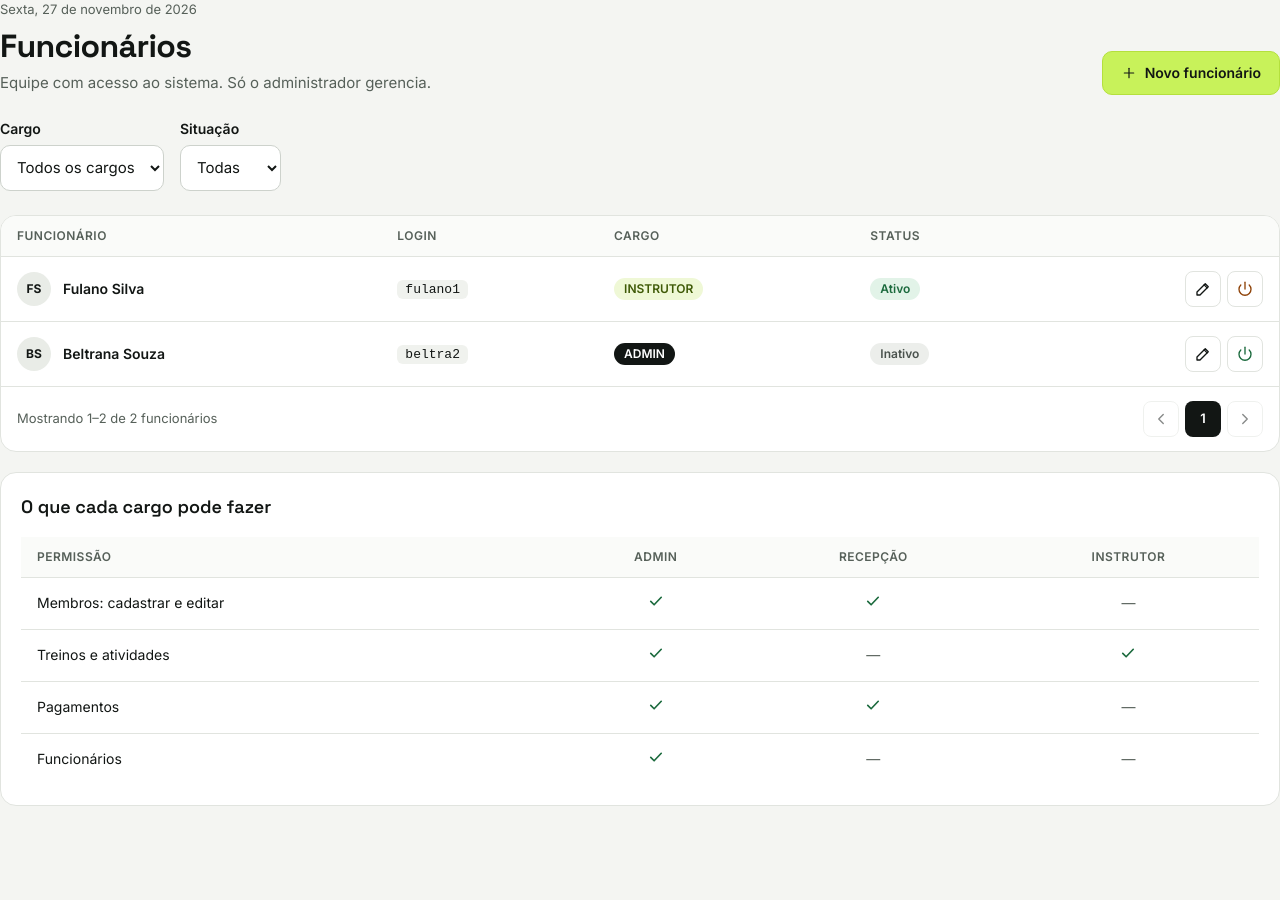
TelaFuncionarios › abre o formulário de criação
Check: the text "Fulano Silva" is shown, box x1=63 y1=278 x2=144 y2=298
Click the button "Novo funcionário": (1191, 72) x1=1102 y1=50 x2=1279 y2=94
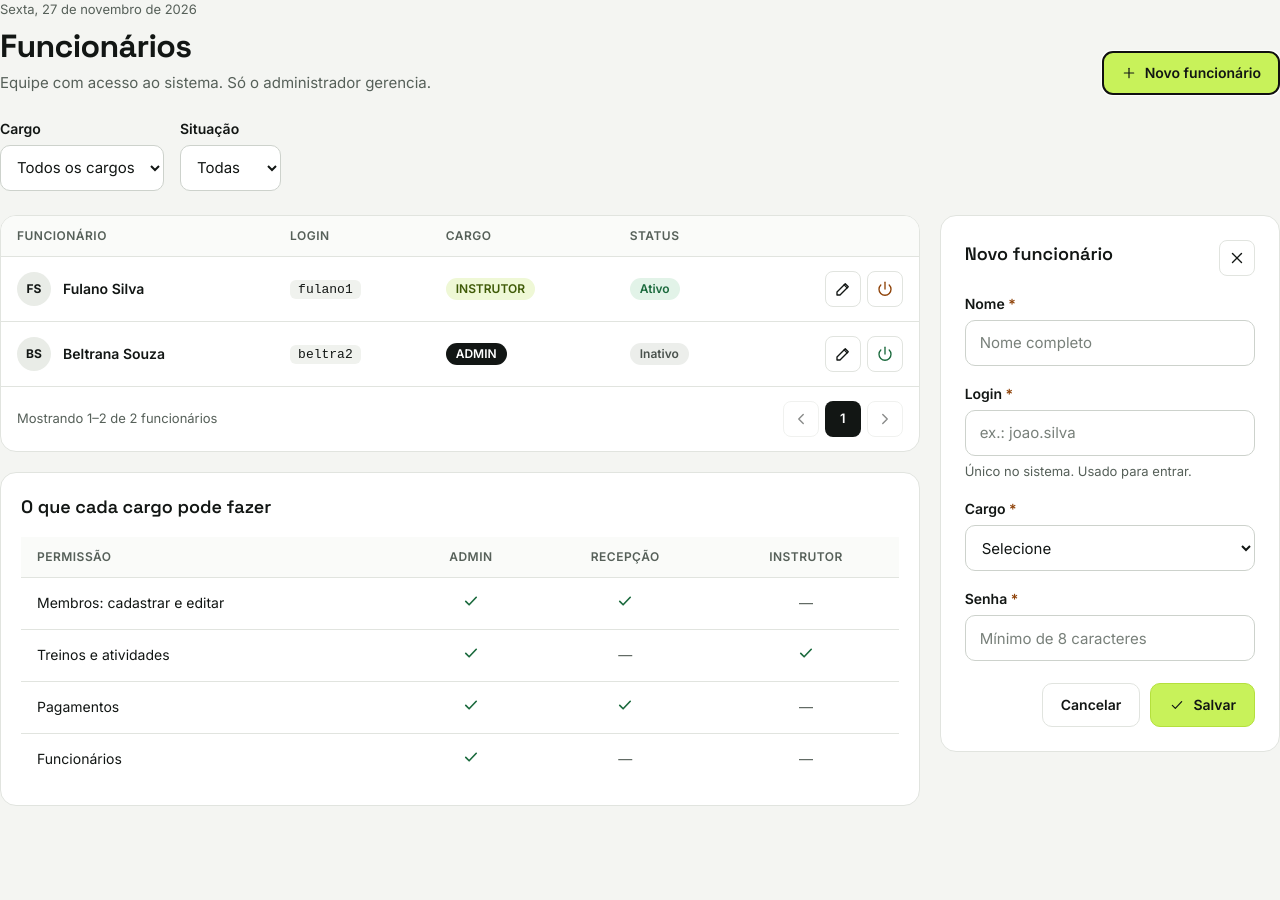
Check: the field labelled "Login" is enabled, box x1=965 y1=410 x2=1255 y2=456
